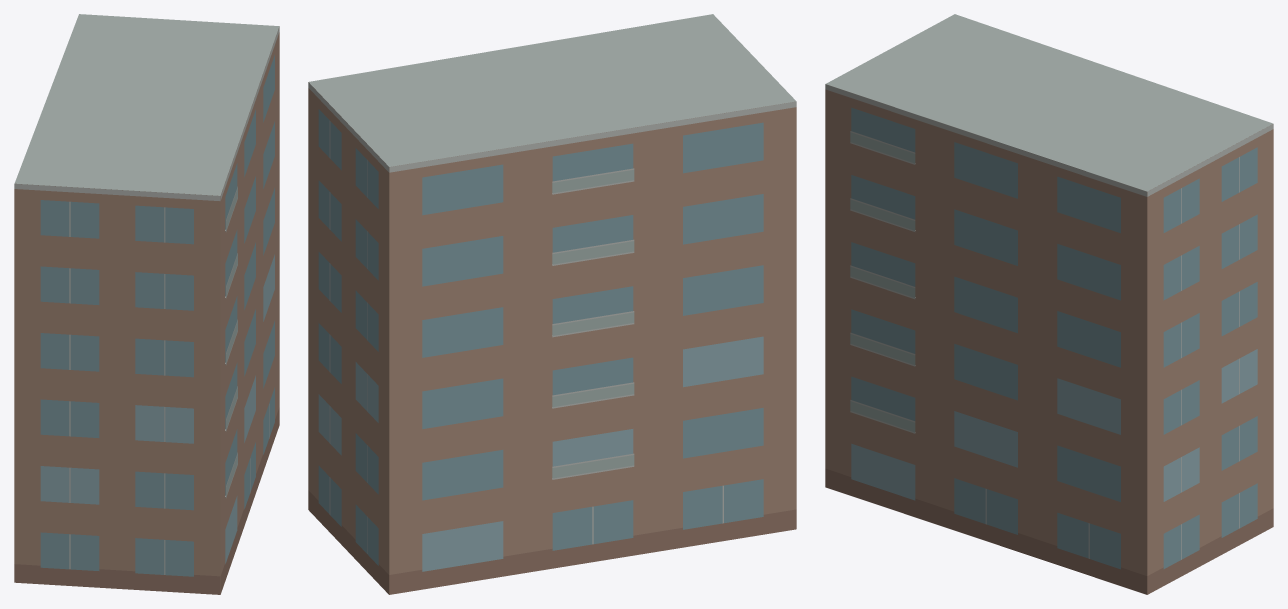
Rendered from survey-upis-32980950.glb.
3 views of the same model, side by side, from view 1: azimuth 30°, elevation 25°; view 2: azimuth 150°, elevation 25°; view 3: azimuth 270°, elevation 25° (orthographic). The views are drawn at different scales.
Visible parts, largest first — view 1: survey-upis-32980950.tmp; view 2: survey-upis-32980950.tmp; view 3: survey-upis-32980950.tmp.
Part boxes in pixels (bbox=[...]): survey-upis-32980950.tmp: bbox=[14, 14, 279, 594]; survey-upis-32980950.tmp: bbox=[308, 14, 796, 594]; survey-upis-32980950.tmp: bbox=[825, 14, 1273, 594].
Size of the model in its own units: 17.39 by 18.4 by 18.54.
